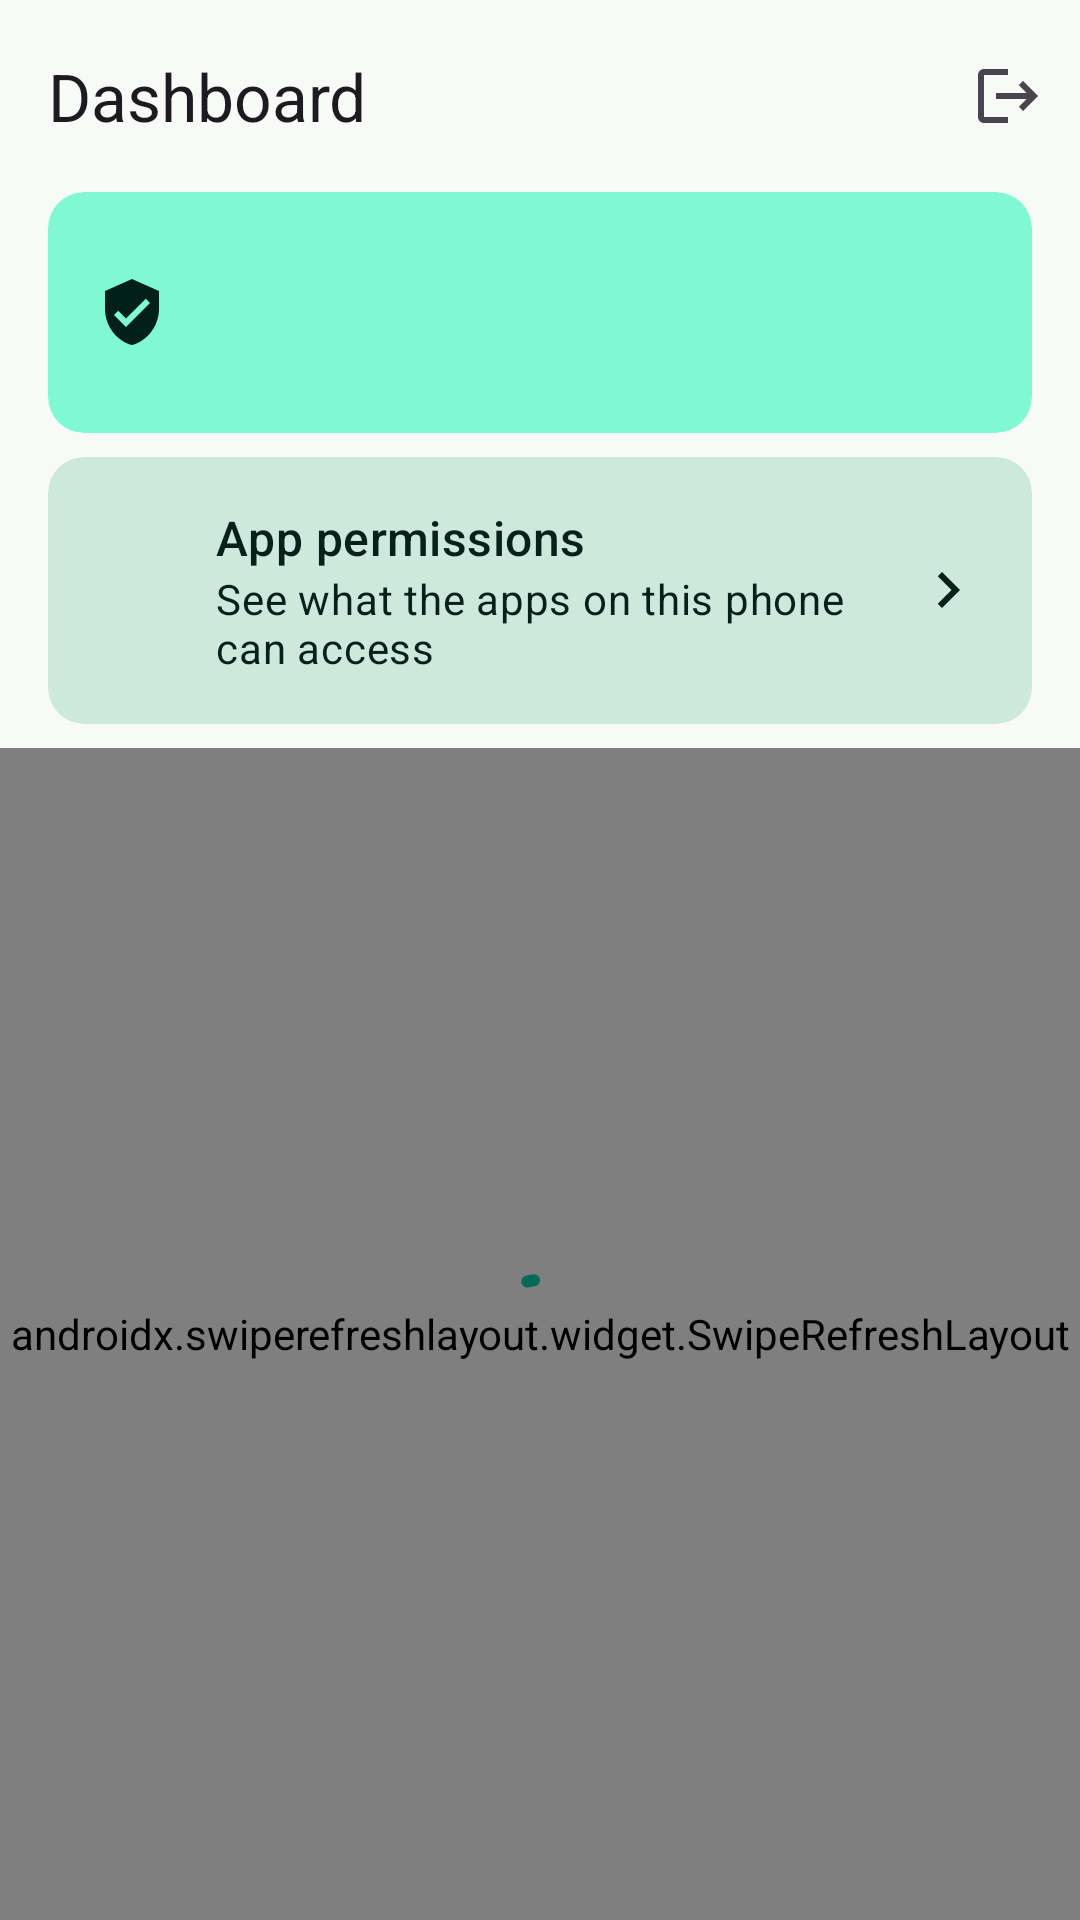

Icon click points for this 1080x1920 phone screenshot, format point (x, y):
chevron right: point (949, 590)
shield: point (132, 312)
